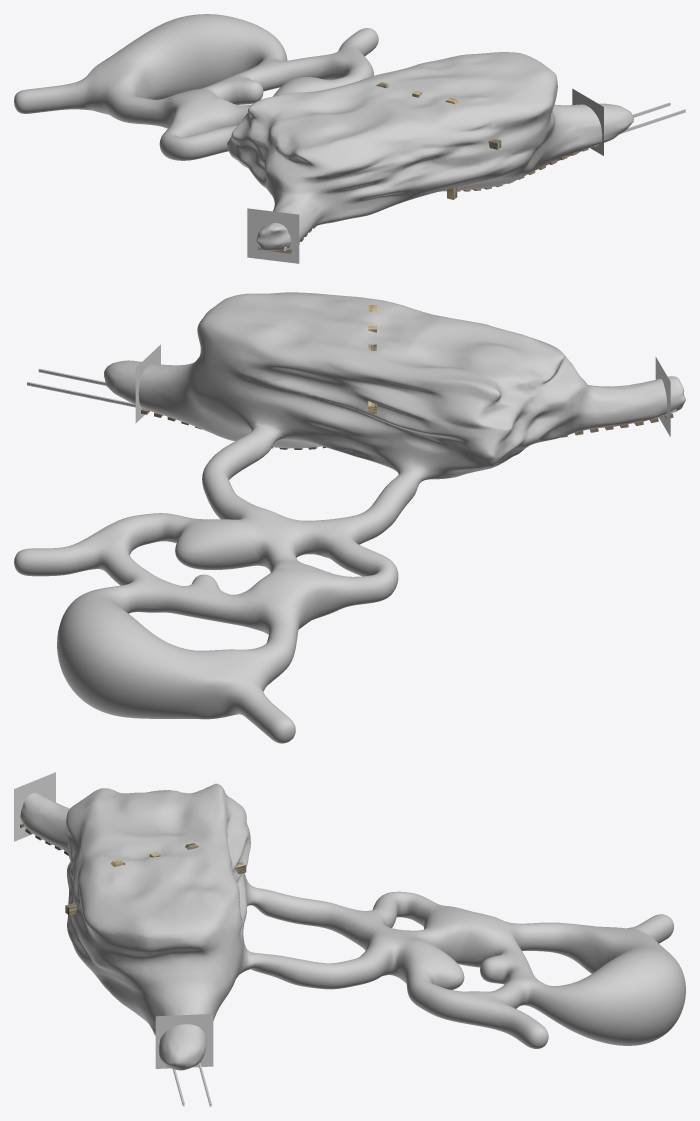
Rendered from Level 2 Version 2.fbx.
3 renders of one model, top to bottom at view 1: azimuth 30°, elevation 25°; view 2: azimuth 150°, elevation 25°; view 3: azimuth 270°, elevation 25°, orthographic. The views are drawn at different scales.
Parts seen in each view (by area): view 1: Cave, Emission1, Emission2, RailShape, Support Truss; view 2: Cave, RailShape; view 3: Cave, Emission2, Emission1.
Boxes of the visible parts, left/top/right/bottom form: Cave: left=14, top=14, right=633, bottom=250; Emission1: left=247, top=208, right=299, bottom=263; Emission2: left=572, top=88, right=603, bottom=155; RailShape: left=259, top=102, right=685, bottom=250; Support Truss: left=376, top=82, right=501, bottom=199; Cave: left=14, top=292, right=685, bottom=743; RailShape: left=27, top=368, right=676, bottom=416; Cave: left=20, top=783, right=685, bottom=1070; Emission2: left=155, top=1014, right=213, bottom=1068; Emission1: left=14, top=772, right=55, bottom=841.
Size of the model in its own units: 3438 by 1134 by 3739.
